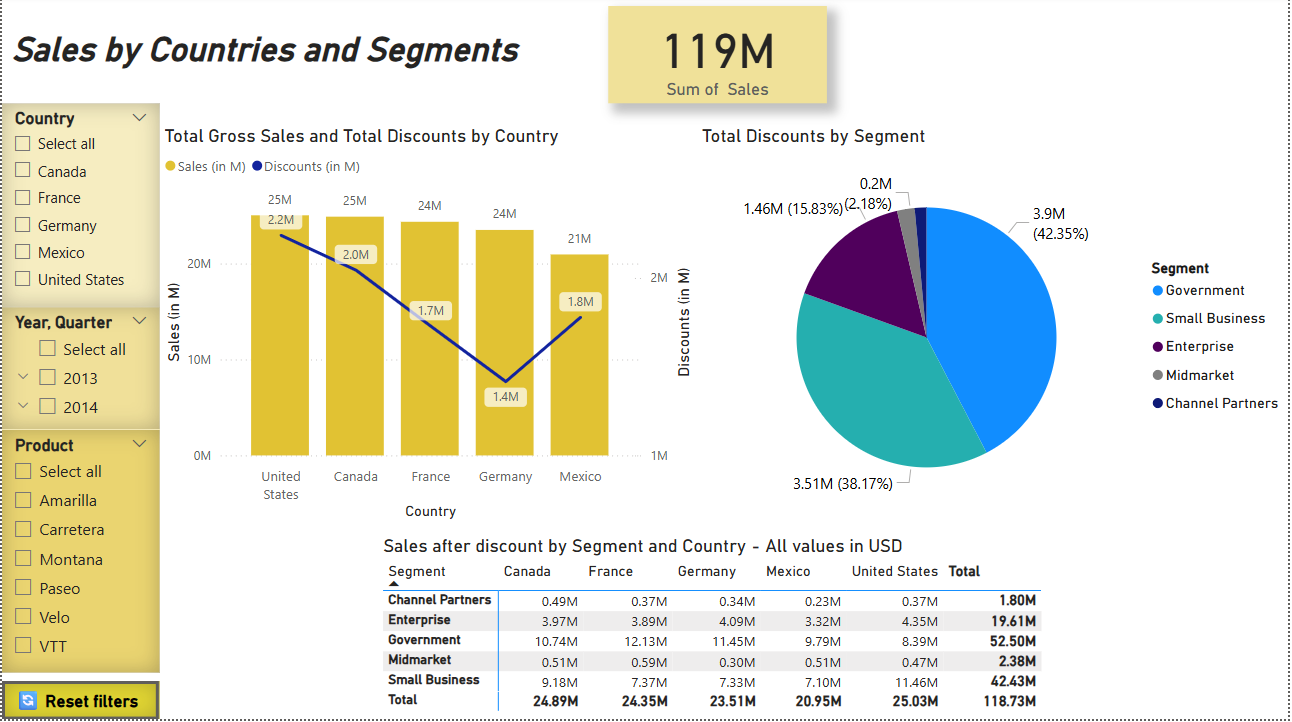

This screenshot's page, from the dashboard's own definition file:
{"tool":"powerbi","page":{"name":"Sales","canvas":[1280,720],"ordinal":0},"visuals":[{"type":"card","fields":{"Values":["Sum(financials (2). Sales)"]},"box":[603.3,10,217.7,97],"z":0},{"type":"lineStackedColumnComboChart","fields":{"Category":["financials (2).Country"],"Y2":["Sum(financials (2).Discounts)"],"Y":["Sum(financials (2). Sales)"]},"box":[156.7,128.1,534.9,398.1],"z":1000},{"type":"pivotTable","title":"Sales after discount by Segment and Country - All values in USD","fields":{"Columns":["financials (2).Country"],"Rows":["financials (2).Segment"],"Values":["Sum(financials (2). Sales)"]},"box":[374.4,536.1,675.5,184.1],"z":2000},{"type":"pieChart","title":"Total Discounts by Segment","fields":{"Category":["financials (2).Segment"],"Y":["Sum(financials (2).Discounts)"]},"box":[691.6,128.1,588.4,398.1],"z":3000},{"type":"slicer","fields":{"Values":["financials (2).Country"]},"box":[0,107,156.7,202.8],"z":4000},{"type":"slicer","fields":{"Values":["financials (2).Product"]},"box":[0,431.7,156.7,241.3],"z":5000},{"type":"slicer","fields":{"Values":["financials (2).Date.Variation.Date Hierarchy.Year","financials (2).Date.Variation.Date Hierarchy.Quarter"]},"box":[0,309.7,156.7,121.9],"z":6000},{"type":"actionButton","box":[0,681.7,156.7,38.6],"z":7000},{"type":"textbox","title":"Sales by Countries and Segments","box":[0,37.3,518.7,43.5],"z":8000}]}

Visuals, with their boxes in screenshot pixels (x1, y1, x2, y2), scaled from the page's 1280x720 canvas onto the 1292x722 screenshot:
card - Sum(financials (2). Sales): {"x1": 609, "y1": 10, "x2": 829, "y2": 107}
lineStackedColumnComboChart - financials (2).Country x Sum(financials (2).Discounts): {"x1": 158, "y1": 128, "x2": 698, "y2": 528}
"Sales after discount by Segment and Country - All values in USD" pivotTable: {"x1": 378, "y1": 538, "x2": 1060, "y2": 721}
"Total Discounts by Segment" pieChart: {"x1": 698, "y1": 128, "x2": 1291, "y2": 528}
slicer - financials (2).Country: {"x1": 0, "y1": 107, "x2": 158, "y2": 311}
slicer - financials (2).Product: {"x1": 0, "y1": 433, "x2": 158, "y2": 675}
slicer - financials (2).Date.Variation.Date Hierarchy.Year x financials (2).Date.Variation.Date Hierarchy.Quarter: {"x1": 0, "y1": 311, "x2": 158, "y2": 433}
actionButton: {"x1": 0, "y1": 684, "x2": 158, "y2": 721}
"Sales by Countries and Segments" textbox: {"x1": 0, "y1": 37, "x2": 524, "y2": 81}
